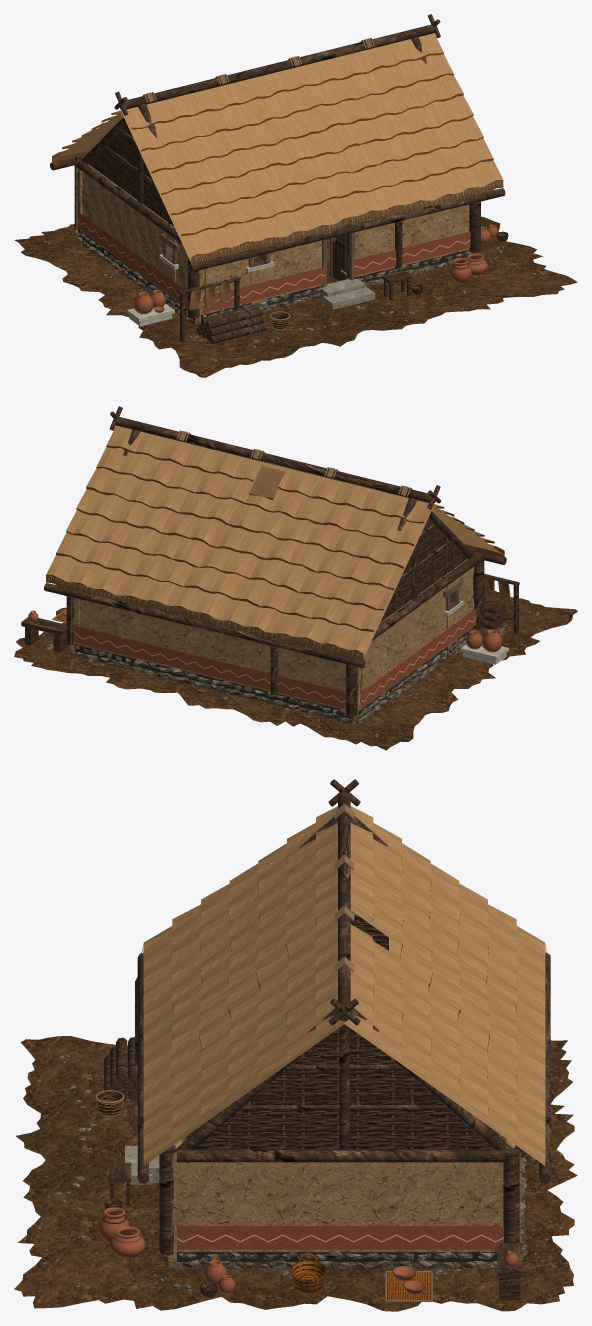
The model's file is house@1.glb.
3 views of the same model, one above another, from view 1: azimuth 30°, elevation 25°; view 2: azimuth 150°, elevation 25°; view 3: azimuth 270°, elevation 25° (orthographic). The views are drawn at different scales.
Parts seen in each view (by area): view 1: part_20, part_1, part_8, part_5, part_21, part_24, part_10, part_4, part_15, part_22, part_23, part_6 (+3 smaller); view 2: part_20, part_1, part_5, part_8, part_21, part_24, part_4, part_10, part_23, part_22, part_15, part_7 (+1 smaller); view 3: part_20, part_1, part_8, part_5, part_10, part_24, part_4, part_15, part_18, part_23, part_19, part_22 (+2 smaller).
Boxes of the visible parts, bbox=[...] form: part_20: bbox=[52, 33, 503, 261]; part_1: bbox=[14, 216, 577, 377]; part_8: bbox=[50, 14, 505, 343]; part_5: bbox=[76, 164, 478, 322]; part_21: bbox=[52, 52, 503, 264]; part_24: bbox=[77, 211, 470, 312]; part_10: bbox=[89, 125, 508, 328]; part_4: bbox=[76, 233, 479, 326]; part_15: bbox=[134, 224, 497, 314]; part_22: bbox=[191, 179, 503, 264]; part_23: bbox=[78, 229, 469, 320]; part_6: bbox=[160, 224, 354, 286]; part_20: bbox=[46, 425, 503, 657]; part_1: bbox=[14, 591, 577, 750]; part_5: bbox=[70, 559, 479, 719]; part_8: bbox=[21, 406, 519, 716]; part_21: bbox=[46, 445, 504, 660]; part_24: bbox=[74, 608, 476, 708]; part_4: bbox=[72, 629, 479, 724]; part_10: bbox=[380, 519, 466, 622]; part_23: bbox=[75, 627, 475, 723]; part_22: bbox=[46, 575, 363, 661]; part_15: bbox=[28, 610, 501, 652]; part_7: bbox=[444, 600, 508, 664]; part_20: bbox=[143, 806, 545, 1165]; part_1: bbox=[14, 1036, 577, 1311]; part_8: bbox=[104, 779, 550, 1300]; part_5: bbox=[168, 1137, 520, 1261]; part_10: bbox=[97, 910, 494, 1297]; part_24: bbox=[177, 1226, 503, 1249]; part_4: bbox=[164, 1132, 527, 1270]; part_15: bbox=[98, 1207, 518, 1294]; part_18: bbox=[290, 1253, 430, 1300]; part_23: bbox=[177, 1137, 504, 1261]; part_19: bbox=[334, 803, 432, 1301]; part_22: bbox=[138, 944, 550, 1165].
Size of the model in its own units: 8.03 by 3.9 by 6.9.
Materials: 26 (16 with a texture image).
